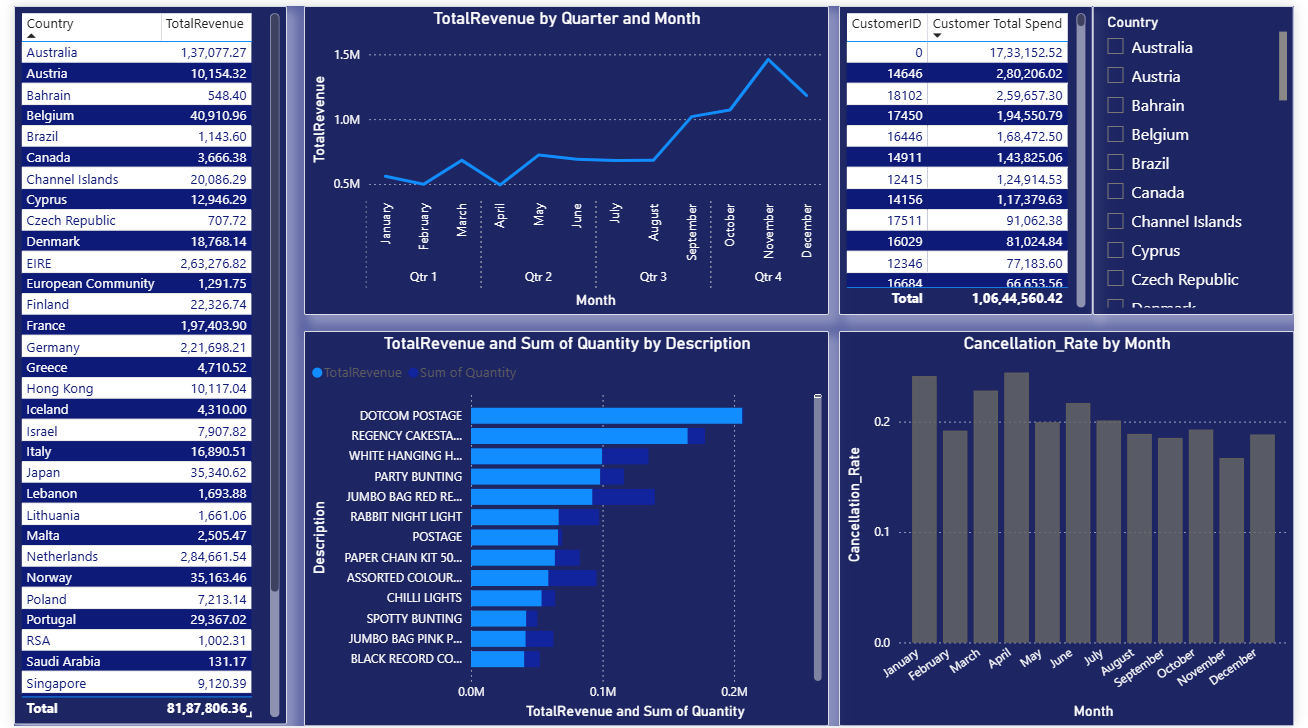

Layout of this report page (visuals, bound fields, positions):
{"tool":"powerbi","page":{"name":"Page 1","canvas":[1280,720],"ordinal":0},"visuals":[{"type":"tableEx","fields":{"Values":["Sheet1 (2).Country","select","Sheet1 (2).TotalRevenue"]},"box":[0,0,272.5,718.8],"z":0},{"type":"lineChart","fields":{"Y":["Sheet1 (2).TotalRevenue"],"Category":["Sheet1 (2).InvoiceDate.Variation.Date Hierarchy.Quarter","Sheet1 (2).InvoiceDate.Variation.Date Hierarchy.Month"]},"box":[290.6,0,524.7,308.6],"z":1},{"type":"barChart","fields":{"Y":["Sheet1 (2).TotalRevenue","Sum(Sheet1 (2).Quantity)"],"Category":["Sheet1 (2).Description"]},"box":[290.6,325.4,524.7,395],"z":2},{"type":"tableEx","fields":{"Values":["Sheet1 (2).CustomerID","Sheet1 (2).Customer Total Spend"]},"box":[825,0,253.8,308.8],"z":3},{"type":"columnChart","fields":{"Category":["Sheet1 (2).InvoiceDate.Variation.Date Hierarchy.Month"],"Y":["Sheet1 (2).Cancellation_Rate"]},"box":[824.9,325.4,455.1,395],"z":4},{"type":"slicer","fields":{"Values":["Sheet1 (2).Country"]},"box":[1079,0,201,309],"z":5}]}

Visuals, with their boxes in screenshot pixels (x1, y1, x2, y2), scaled from the page's 1280x720 canvas onto the 1308x728 screenshot:
tableEx - Sheet1 (2).Country x select: select_region(0, 0, 278, 727)
lineChart - Sheet1 (2).TotalRevenue x Sheet1 (2).InvoiceDate.Variation.Date Hierarchy.Quarter: select_region(297, 0, 833, 312)
barChart - Sheet1 (2).TotalRevenue x Sum(Sheet1 (2).Quantity): select_region(297, 329, 833, 727)
tableEx - Sheet1 (2).CustomerID x Sheet1 (2).Customer Total Spend: select_region(843, 0, 1102, 312)
columnChart - Sheet1 (2).InvoiceDate.Variation.Date Hierarchy.Month x Sheet1 (2).Cancellation_Rate: select_region(843, 329, 1307, 727)
slicer - Sheet1 (2).Country: select_region(1103, 0, 1307, 312)
